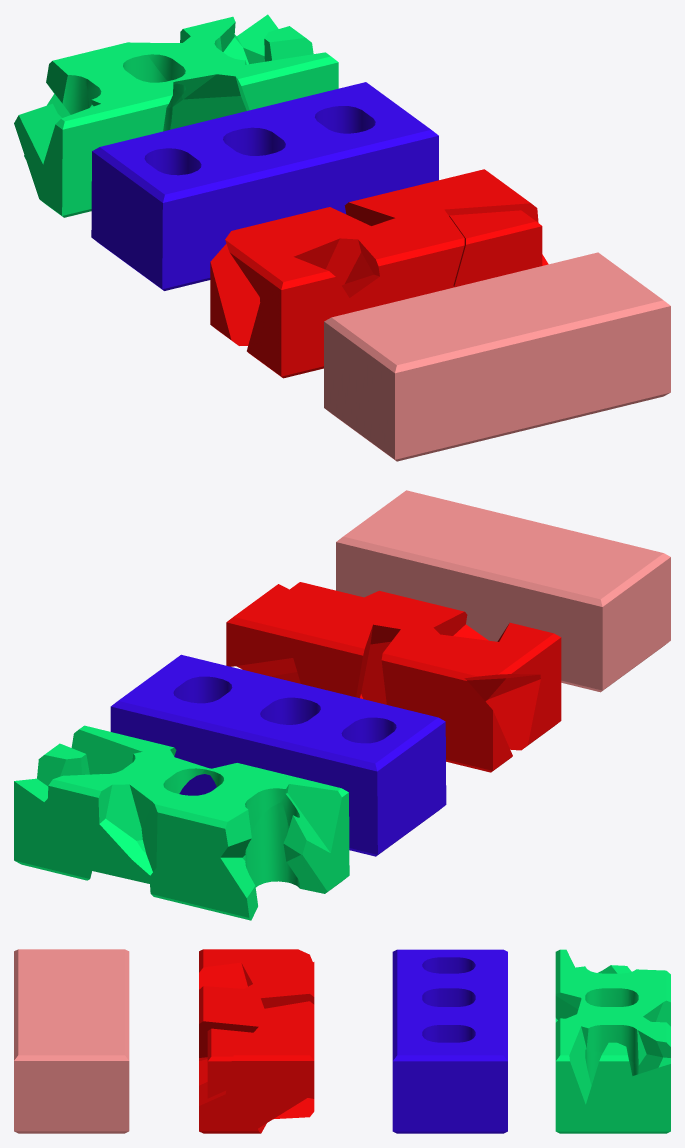
Rendered from Bricks.FBX.
The picture shows the model from 3 angles, top to bottom: view 1: azimuth 30°, elevation 25°; view 2: azimuth 150°, elevation 25°; view 3: azimuth 270°, elevation 25°; orthographic projection. The views are drawn at different scales.
Visible parts, largest first — view 1: Brick1, Brick3, Brick2, Brick4; view 2: Brick4, Brick1, Brick2, Brick3; view 3: Brick1, Brick3, Brick2, Brick4.
Part boxes in pixels (x1,y1,x2,y2): Brick1: (324, 252, 670, 461); Brick3: (91, 82, 438, 290); Brick2: (210, 169, 548, 378); Brick4: (14, 14, 338, 217); Brick4: (14, 725, 349, 920); Brick1: (336, 490, 670, 692); Brick2: (226, 582, 561, 772); Brick3: (110, 654, 446, 856); Brick1: (14, 949, 129, 1133); Brick3: (392, 949, 507, 1133); Brick2: (199, 949, 314, 1133); Brick4: (555, 949, 670, 1133).
Bounding box in the file's own units: 22.91 × 7.62 × 57.9.
